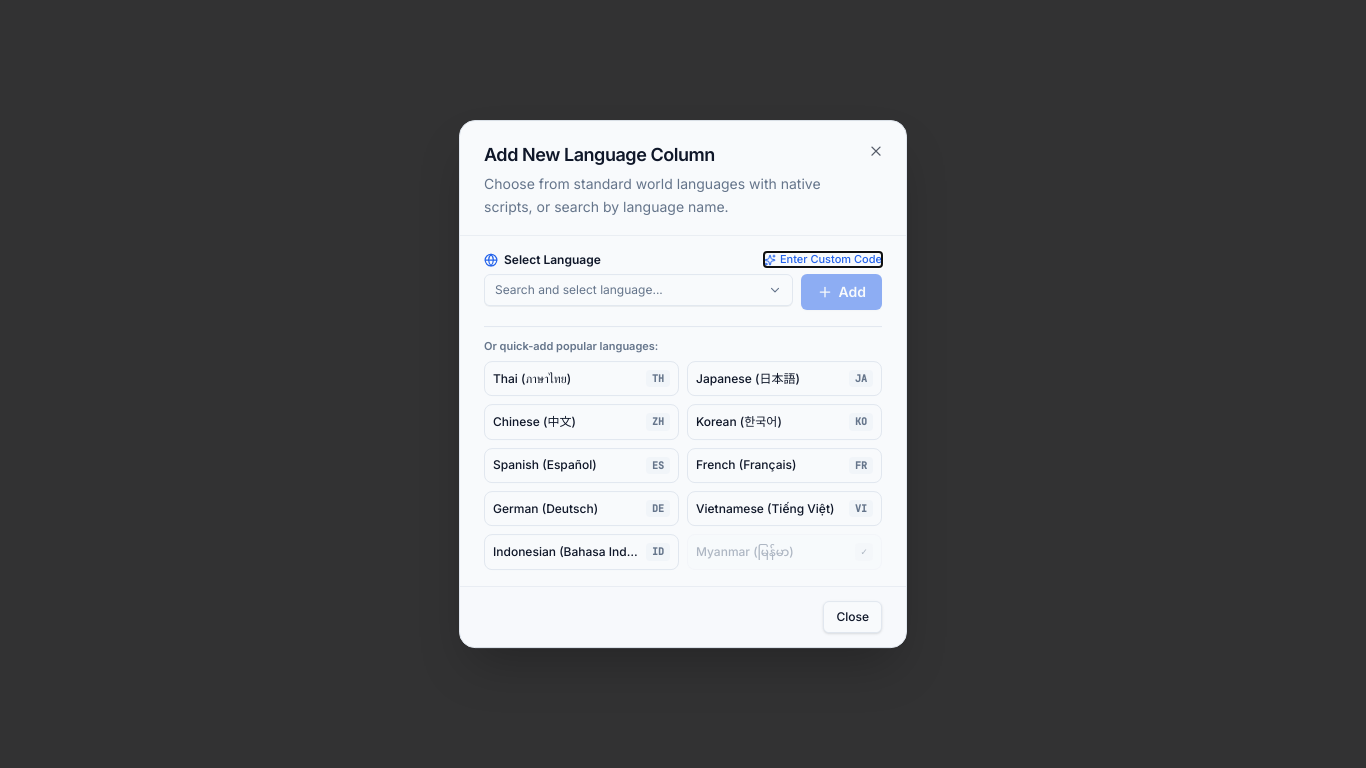
Scenario: AddLanguageDialog › shows error when attempting to add an already existing language
Click the button "Enter Custom Code": (823, 260) [764,252,882,267]
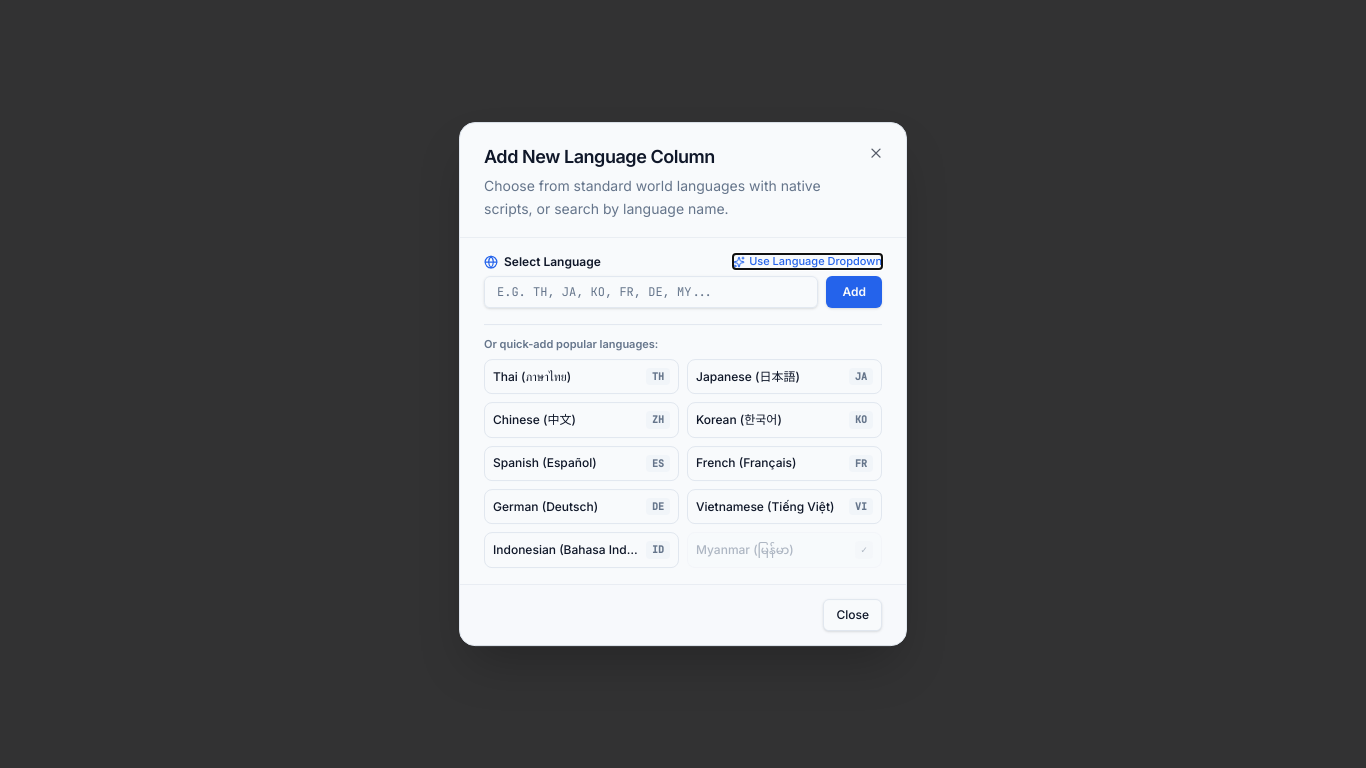
In the field with placeholder "e.g. th, ja, ko, fr, de, my...": (651, 292) [484,276,818,308], type "en"
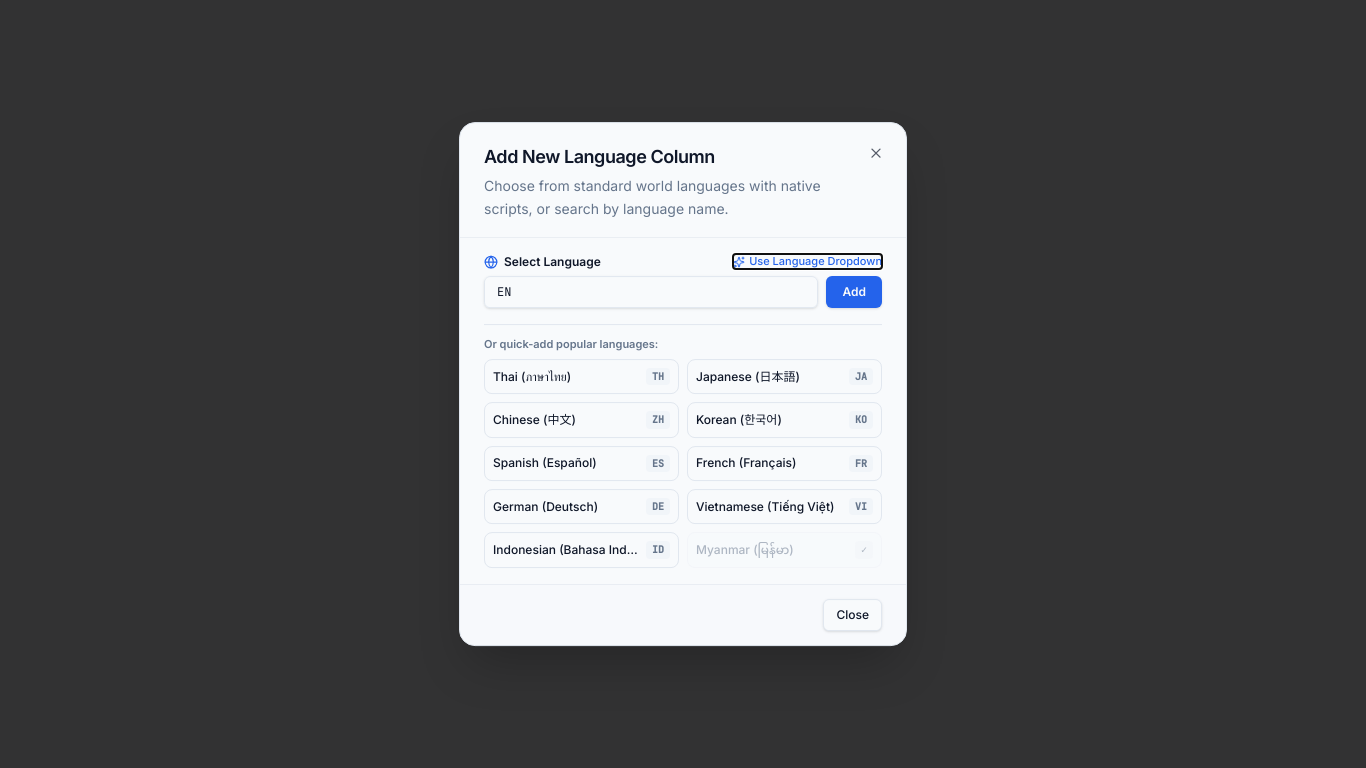
Click the button "Add": (854, 292) [826,276,882,308]
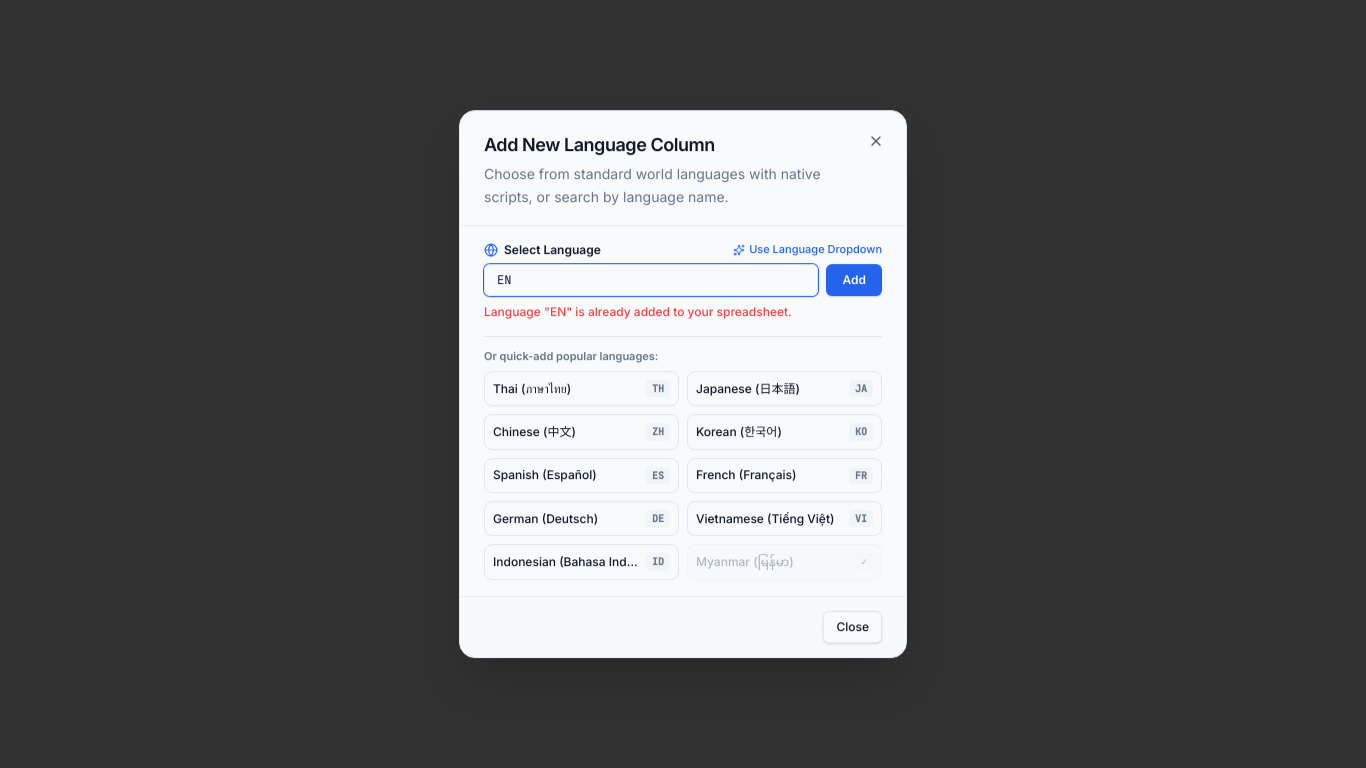
Now the text "Language \"EN\" is already added to your spreadsheet." is shown, box [484,304,792,319]
